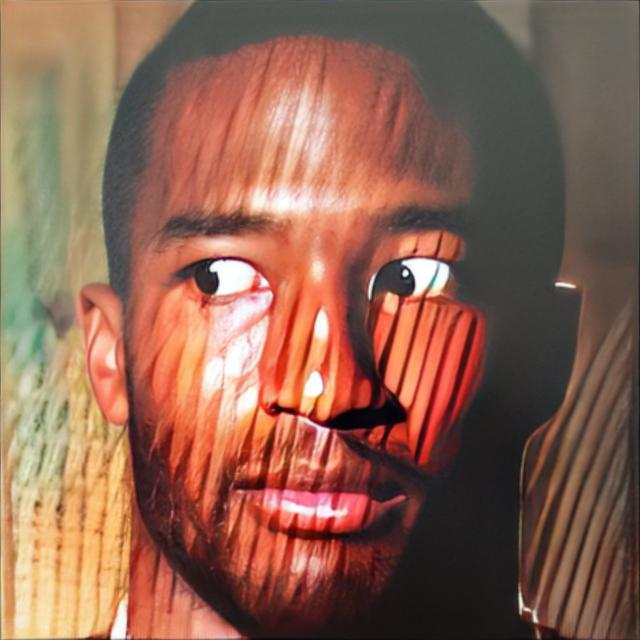neutral: (123, 35, 524, 640)
